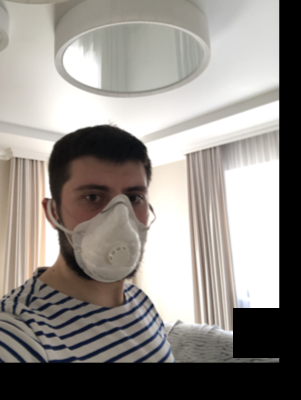with_mask: (68, 175, 149, 283)
